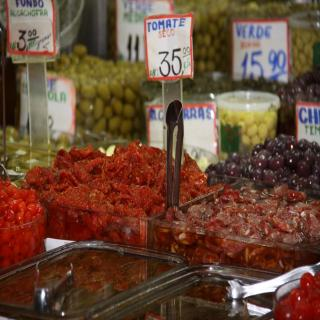tomato: (26, 202, 36, 215)
